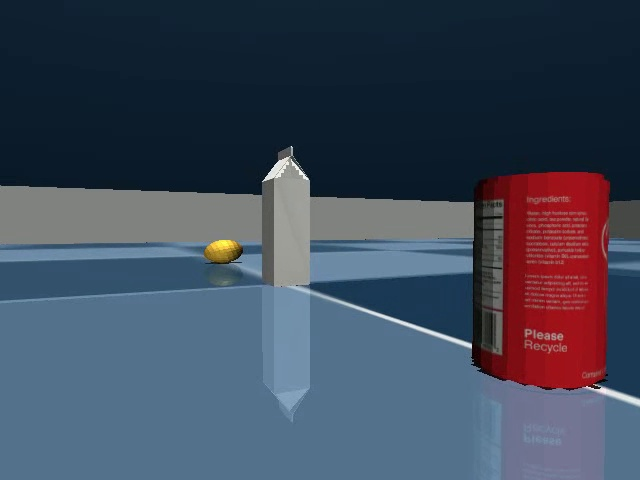can: (463, 163, 622, 398)
lemon: (198, 234, 246, 271)
milk: (253, 137, 319, 294)
